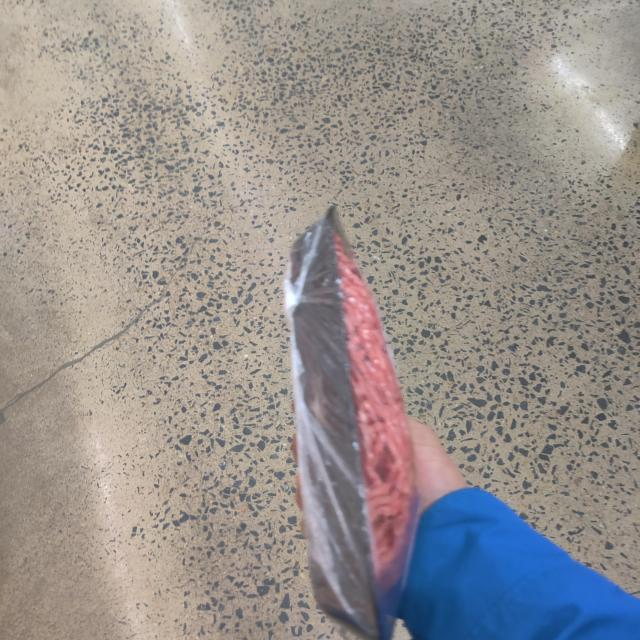Meat: (284, 211, 418, 638)
